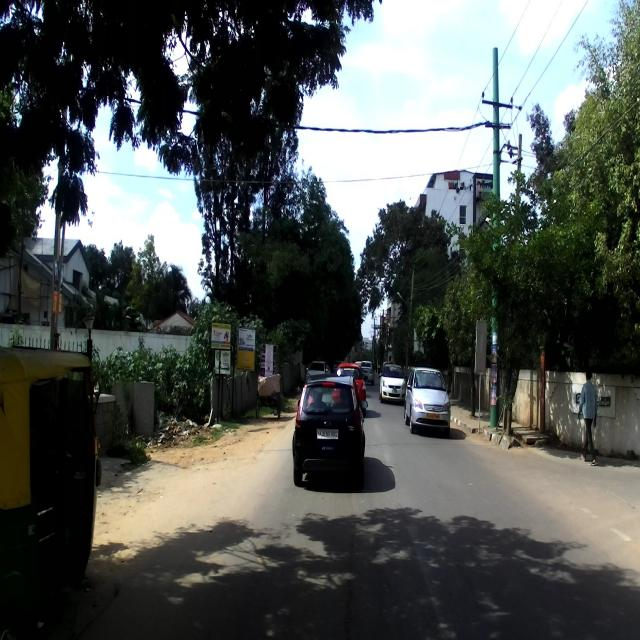Car: (291, 368, 367, 484)
Car_Maruti-Suzuki: (378, 361, 406, 405)
Car_TATA: (406, 370, 451, 439)
autorickshaw: (0, 341, 101, 636)
